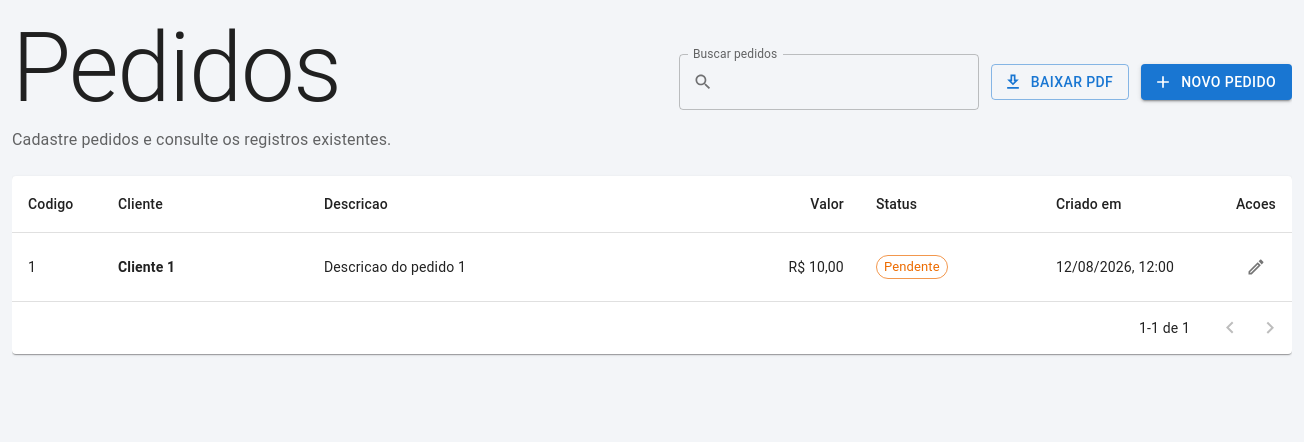
Scenario: OrdersPage › apresenta erro quando nao consegue gerar o PDF
Click the button "Baixar PDF": (1060, 82) [991, 64, 1129, 100]
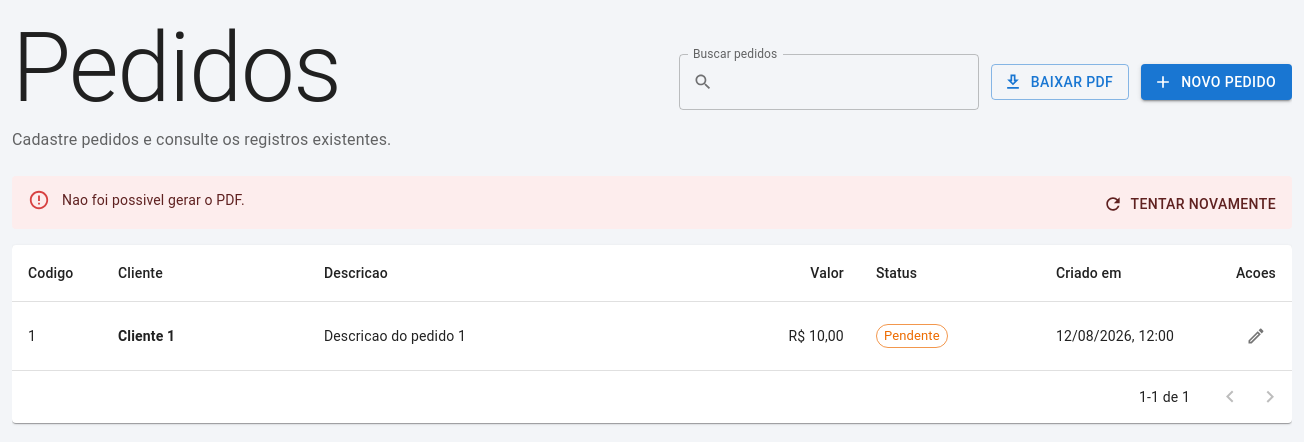
Now the message shows "Nao foi possivel gerar o PDF.", box [62, 192, 245, 208]
